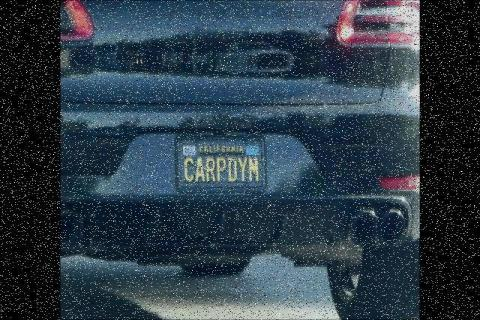LicensePlate: (171, 128, 273, 198)
